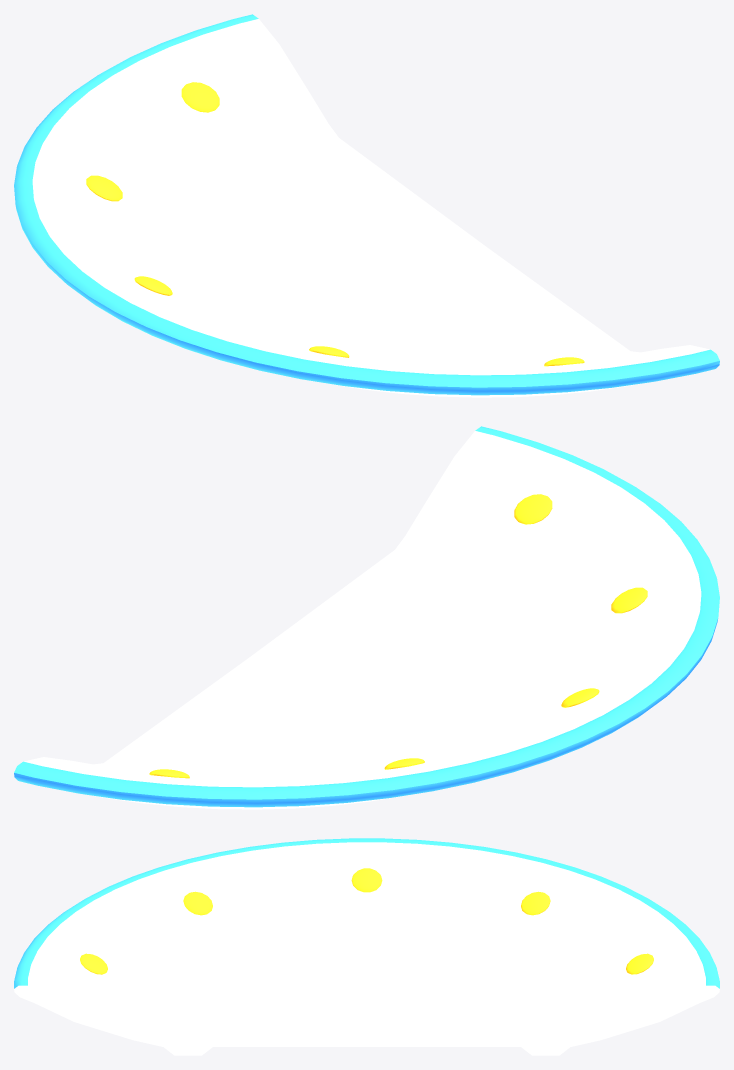
The picture shows the model from 3 angles, top to bottom: view 1: azimuth 30°, elevation 25°; view 2: azimuth 150°, elevation 25°; view 3: azimuth 270°, elevation 25°; orthographic projection. The views are drawn at different scales.
Parts seen in each view (by area): view 1: Plate-left; view 2: Plate-left; view 3: Plate-left.
Part boxes in pixels (x1=…): Plate-left: x1=14, y1=14, x2=719, y2=397; Plate-left: x1=14, y1=426, x2=719, y2=809; Plate-left: x1=14, y1=838, x2=719, y2=1055.
Size of the model in its own units: 0.0694 by 0.0152 by 0.1388.
